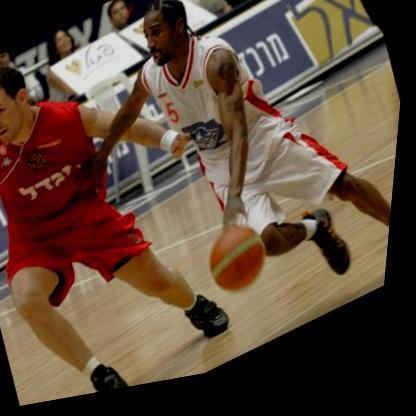basketball: (204, 224, 283, 316)
